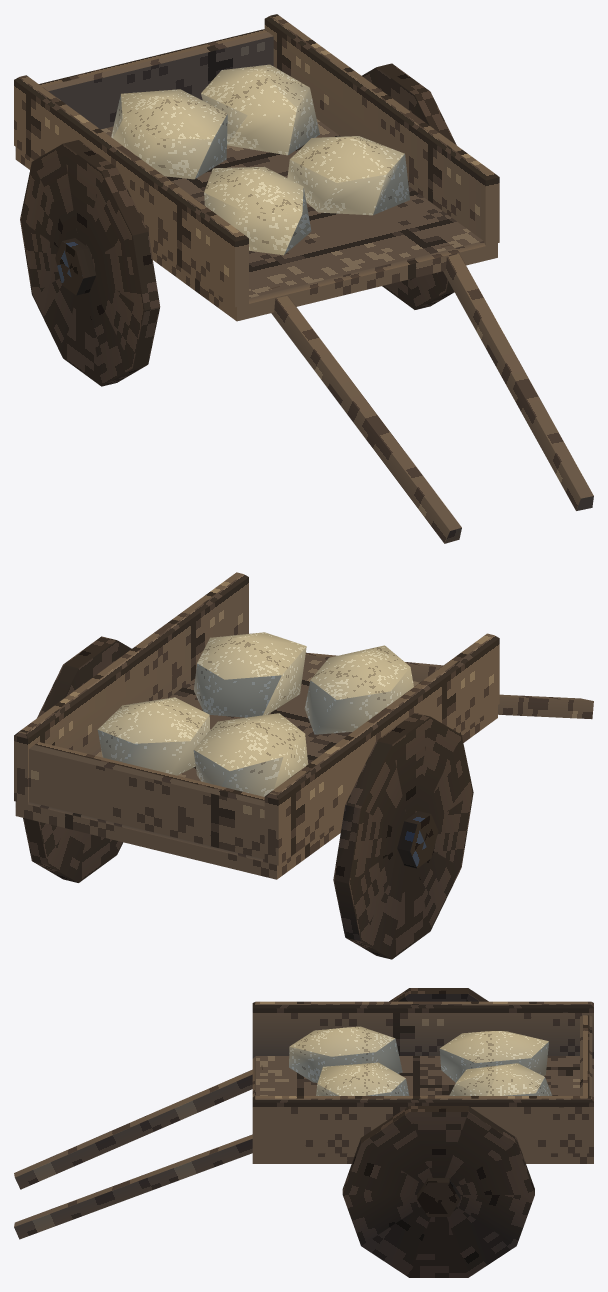
File: mprop.cart__sacks.glb
3 views of the same model, one above another, from view 1: azimuth 30°, elevation 25°; view 2: azimuth 150°, elevation 25°; view 3: azimuth 270°, elevation 25° (orthographic). The views are drawn at different scales.
Visible parts, largest first — view 1: kit_bed, kit_load, kit_wheels; view 2: kit_bed, kit_wheels, kit_load; view 3: kit_bed, kit_wheels, kit_load.
Boxes of the visible parts, left/top/right/bottom form: kit_bed: left=14, top=14, right=593, bottom=543; kit_load: left=111, top=64, right=409, bottom=255; kit_wheels: left=20, top=63, right=456, bottom=386; kit_bed: left=14, top=572, right=593, bottom=879; kit_wheels: left=23, top=636, right=473, bottom=959; kit_load: left=97, top=632, right=413, bottom=796; kit_bed: left=14, top=1001, right=593, bottom=1239; kit_wheels: left=342, top=988, right=534, bottom=1277; kit_load: left=289, top=1026, right=552, bottom=1095.
Size of the model in its own units: 2.04 by 1.2 by 3.74.
5 materials, 5 textured.
